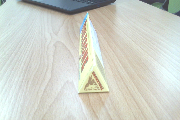Chocolate: (74, 12, 111, 97)
